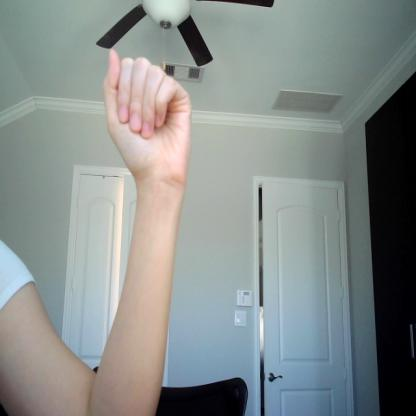A: (102, 51, 196, 179)
